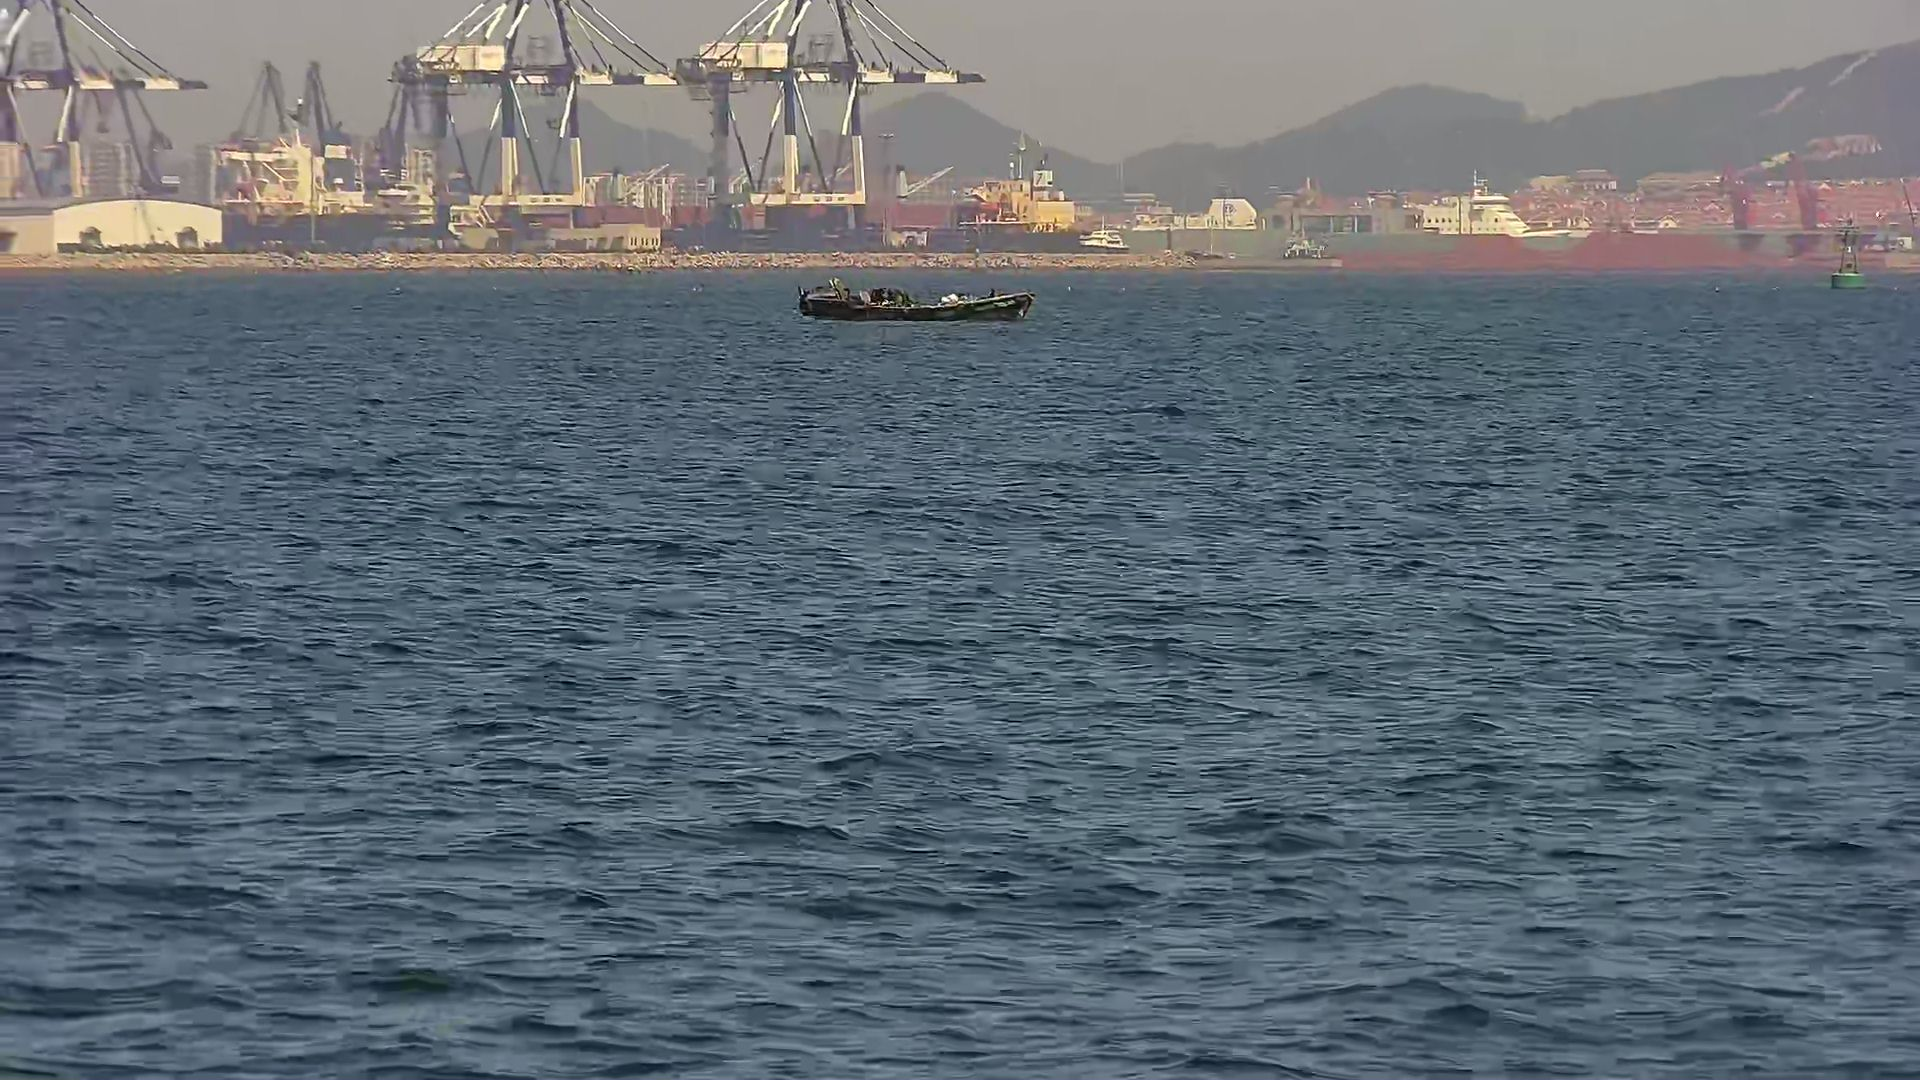boat: (794, 280, 1033, 320)
buoy: (1829, 222, 1873, 294)
